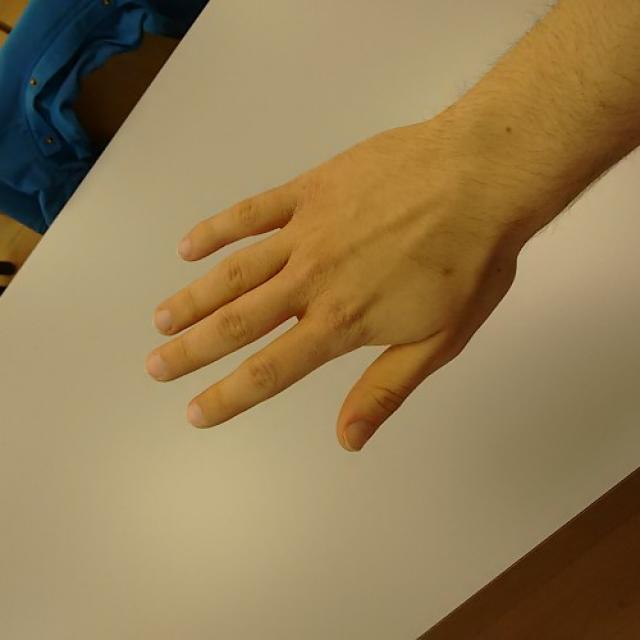paper: (145, 126, 508, 454)
